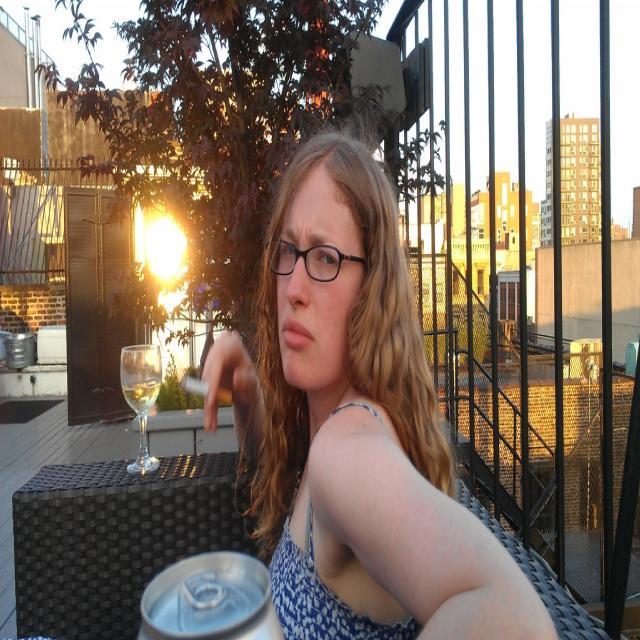Glasses: (270, 230, 359, 283)
